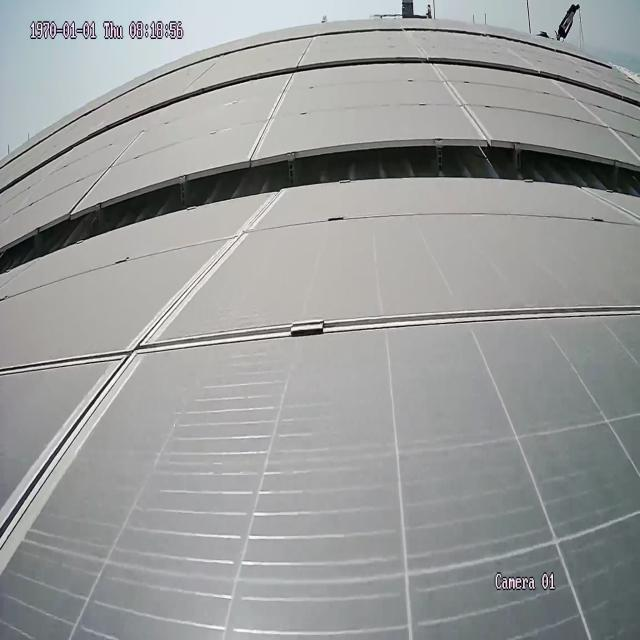interior panel: (1, 204, 636, 572), (75, 133, 138, 207), (431, 69, 495, 133), (246, 83, 294, 148)
outher panel: (0, 141, 640, 279)
